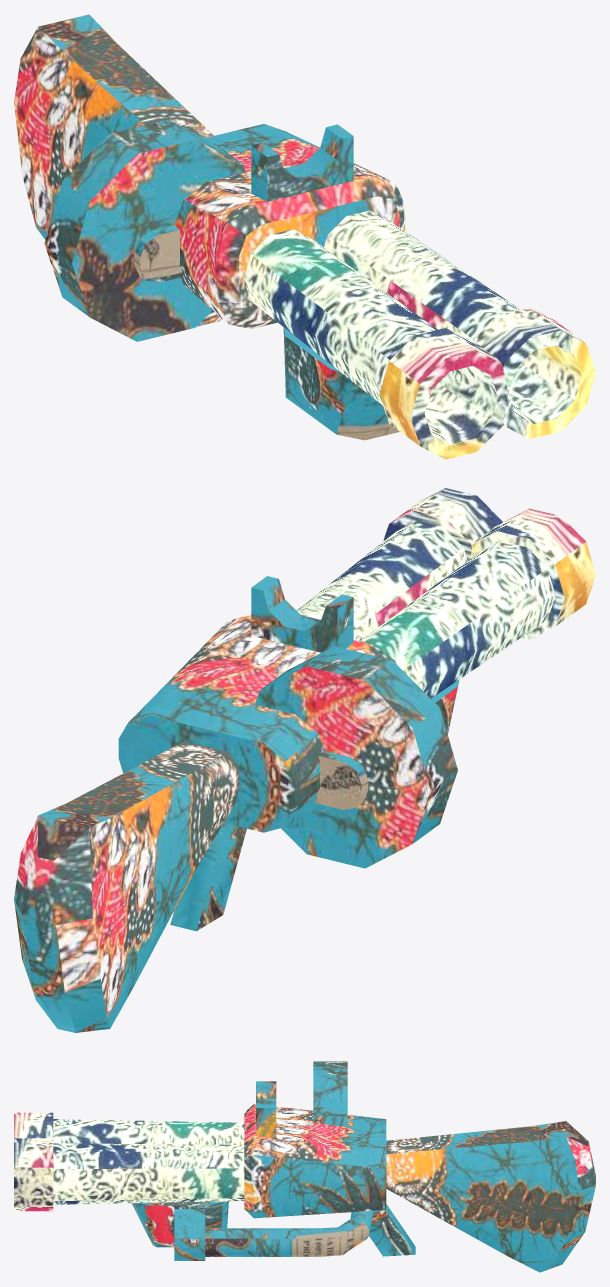
The model's file is Shotgun batik fix.fbx.
3 renders of one model, top to bottom at view 1: azimuth 30°, elevation 25°; view 2: azimuth 150°, elevation 25°; view 3: azimuth 270°, elevation 25°, orthographic. The views are drawn at different scales.
Visible parts, largest first — view 1: Shotgun_body, Shotgun_barrel; view 2: Shotgun_body, Shotgun_barrel; view 3: Shotgun_body, Shotgun_barrel.
Boxes of the visible parts, box(x1,y1,x2,y2) form: Shotgun_body: box(14, 14, 405, 440); Shotgun_barrel: box(243, 210, 595, 459); Shotgun_body: box(14, 576, 459, 1032); Shotgun_barrel: box(296, 488, 595, 698); Shotgun_body: box(132, 1061, 595, 1272); Shotgun_barrel: box(14, 1112, 244, 1211).
Bounding box in the file's own units: 17.76 × 14.86 × 46.07.
